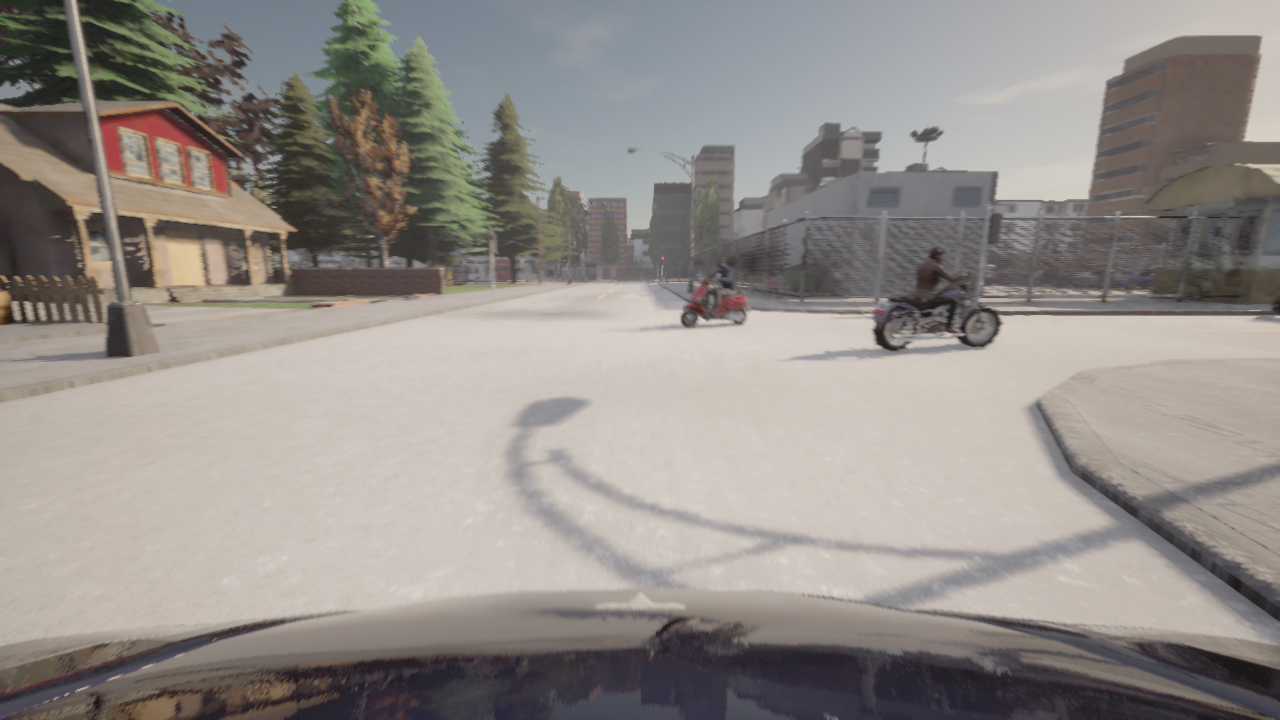cyclist: (0, 588, 1279, 719), (871, 272, 1002, 351), (681, 271, 750, 327), (1097, 265, 1163, 289), (1053, 263, 1115, 287), (1020, 269, 1070, 285), (1079, 269, 1118, 288), (985, 271, 1026, 284), (986, 269, 1021, 284), (1271, 296, 1279, 313), (987, 265, 998, 270)
pedestrian: (768, 272, 778, 302)
